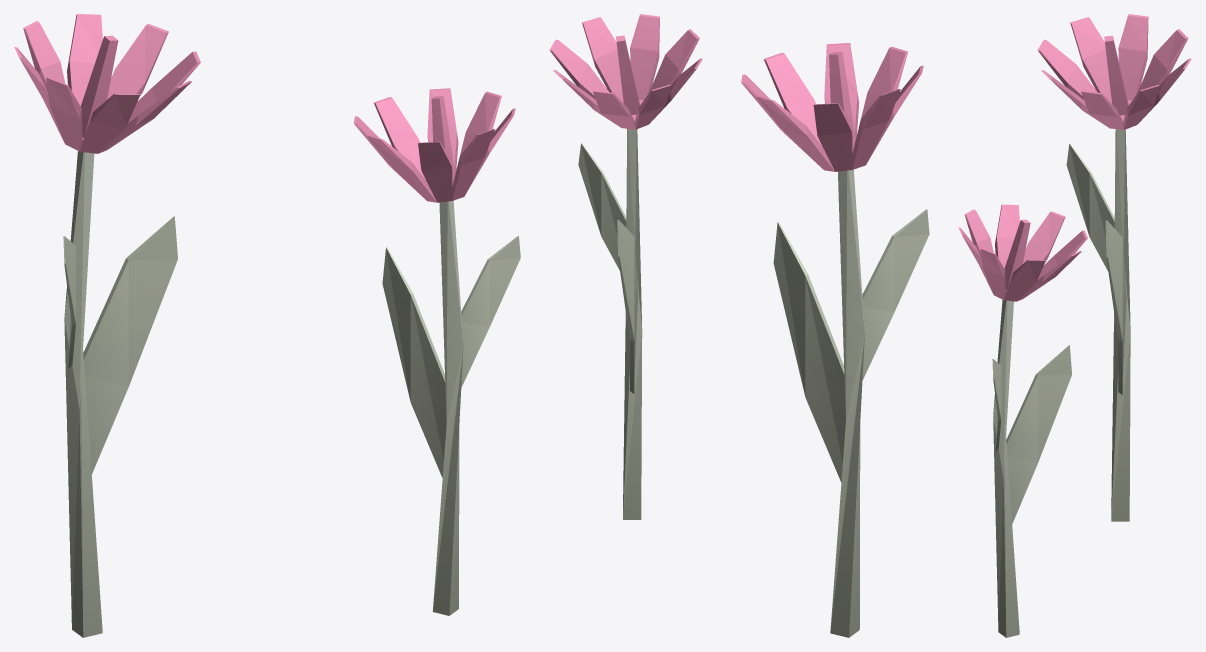
File: flower_tulip.glb
The picture shows the model from 3 angles, left to right: view 1: azimuth 30°, elevation 25°; view 2: azimuth 150°, elevation 25°; view 3: azimuth 270°, elevation 25°; orthographic projection. The views are drawn at different scales.
Parts seen in each view (by area): view 1: Flower 3_1_A; view 2: Flower 3_1_A; view 3: Flower 3_1_A.
Part boxes in pixels (bbox=[...]): Flower 3_1_A: bbox=[14, 14, 520, 637]; Flower 3_1_A: bbox=[549, 14, 929, 637]; Flower 3_1_A: bbox=[958, 14, 1191, 637].
Bounding box in the file's own units: 0.2813 × 0.38 × 0.1652.
1 material, 1 textured.
